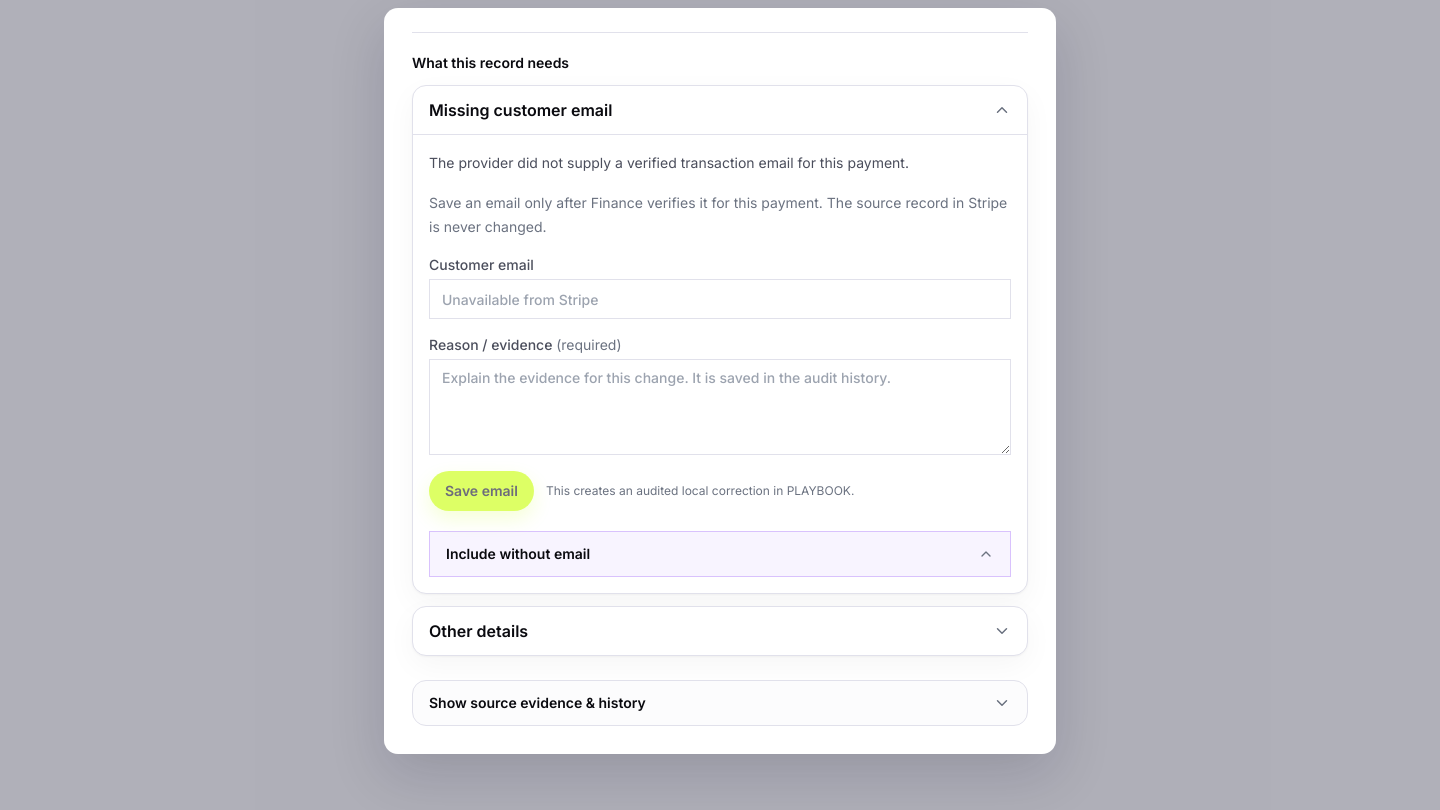
B2C payment review drawer › keeps an unmapped provider payment reviewable without offering a reusable mapping
The width and height of the screenshot is (1440, 810).
(page scrolled)
Click the heading "Include without email". click: (518, 554)
box: 446,545 -> 994,562
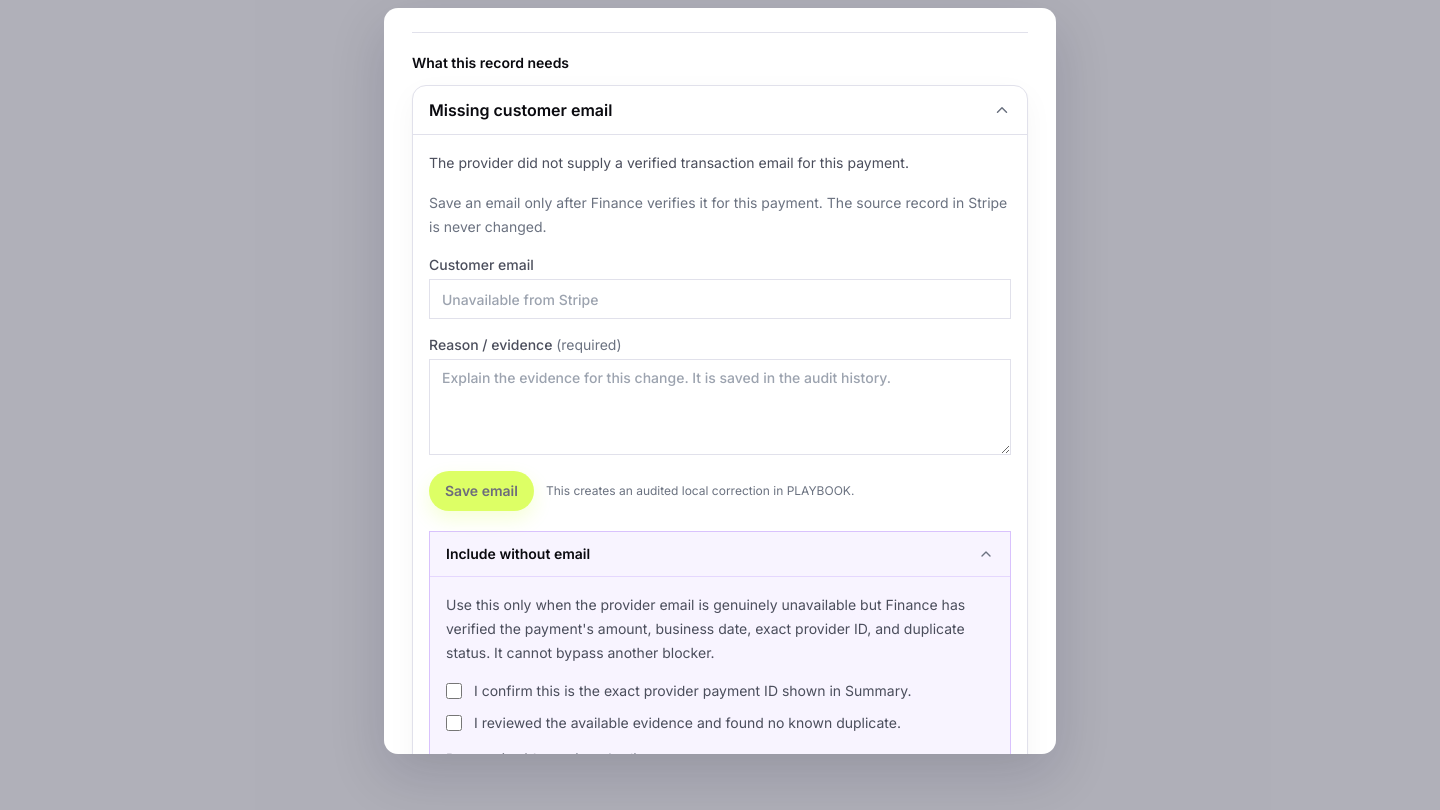
Click the checkbox labelled "exact provider payment ID". click: (454, 691)
box: 446,683 -> 462,699
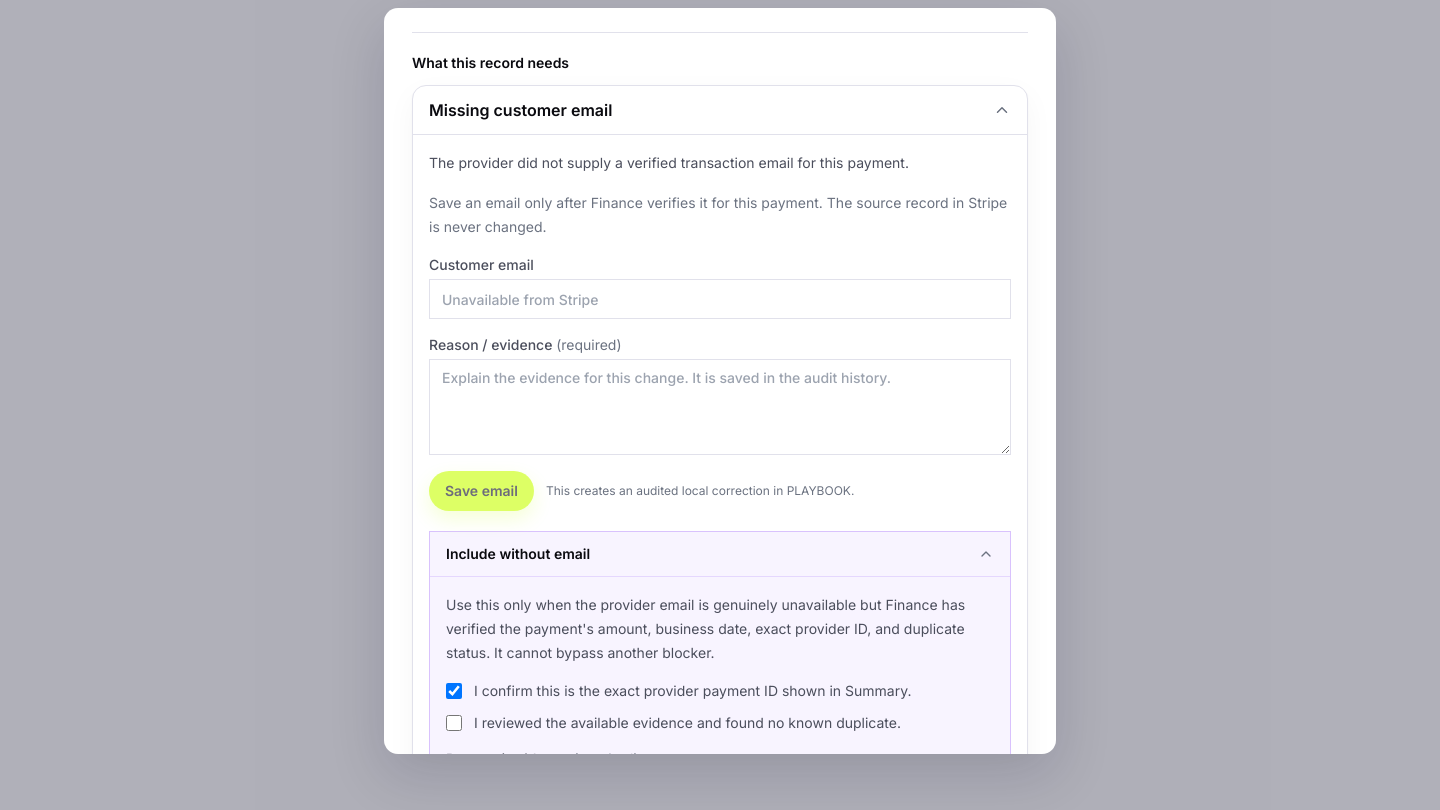
Click the checkbox labelled "found no known duplicate". click: (454, 723)
box: 446,715 -> 462,731
(page scrolled)
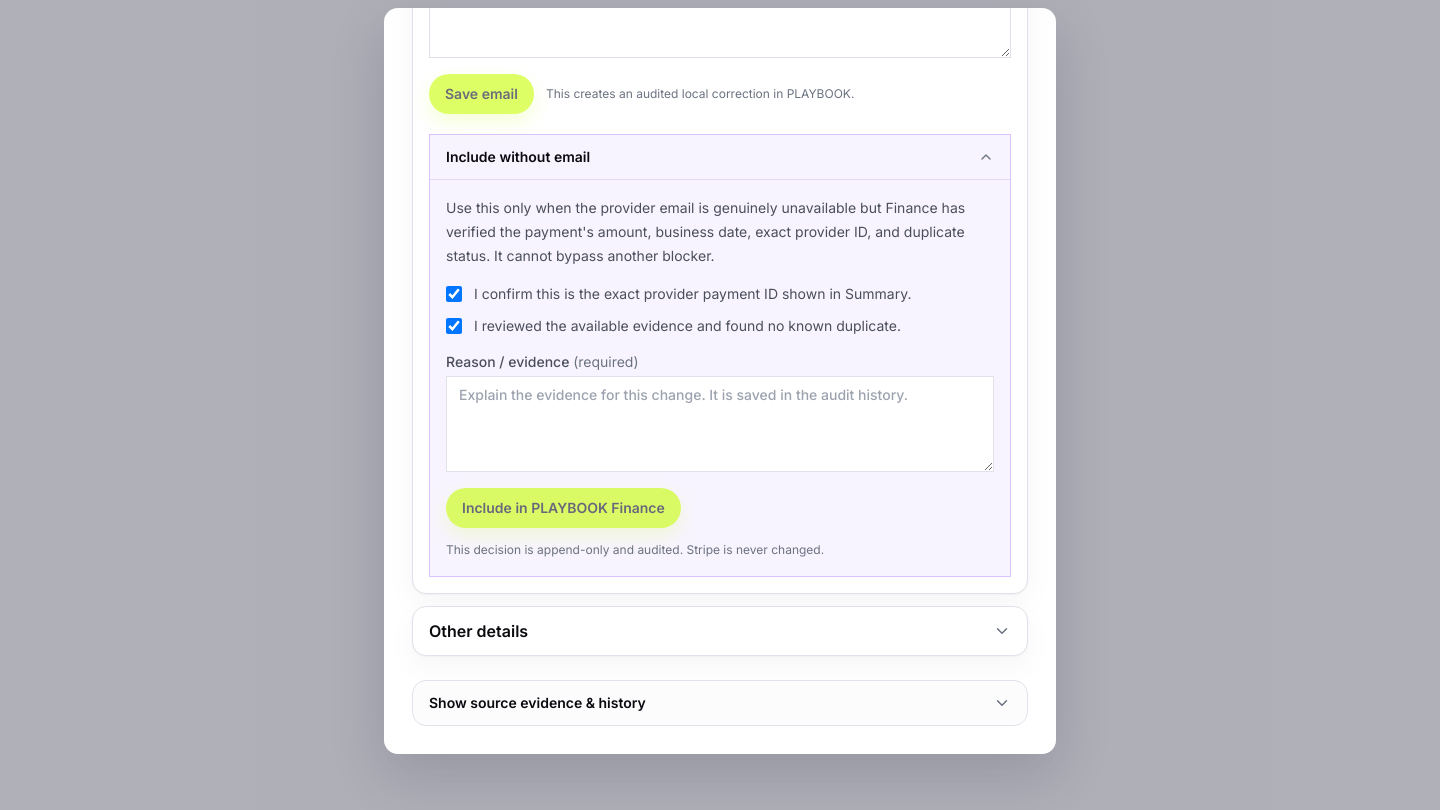
Replace the text in the text box labelled "Reason / evidence (required)" below "Reason / evidence" with "Finance verified the missing email cannot be recovered.". click: (720, 424)
box: 446,376 -> 994,472
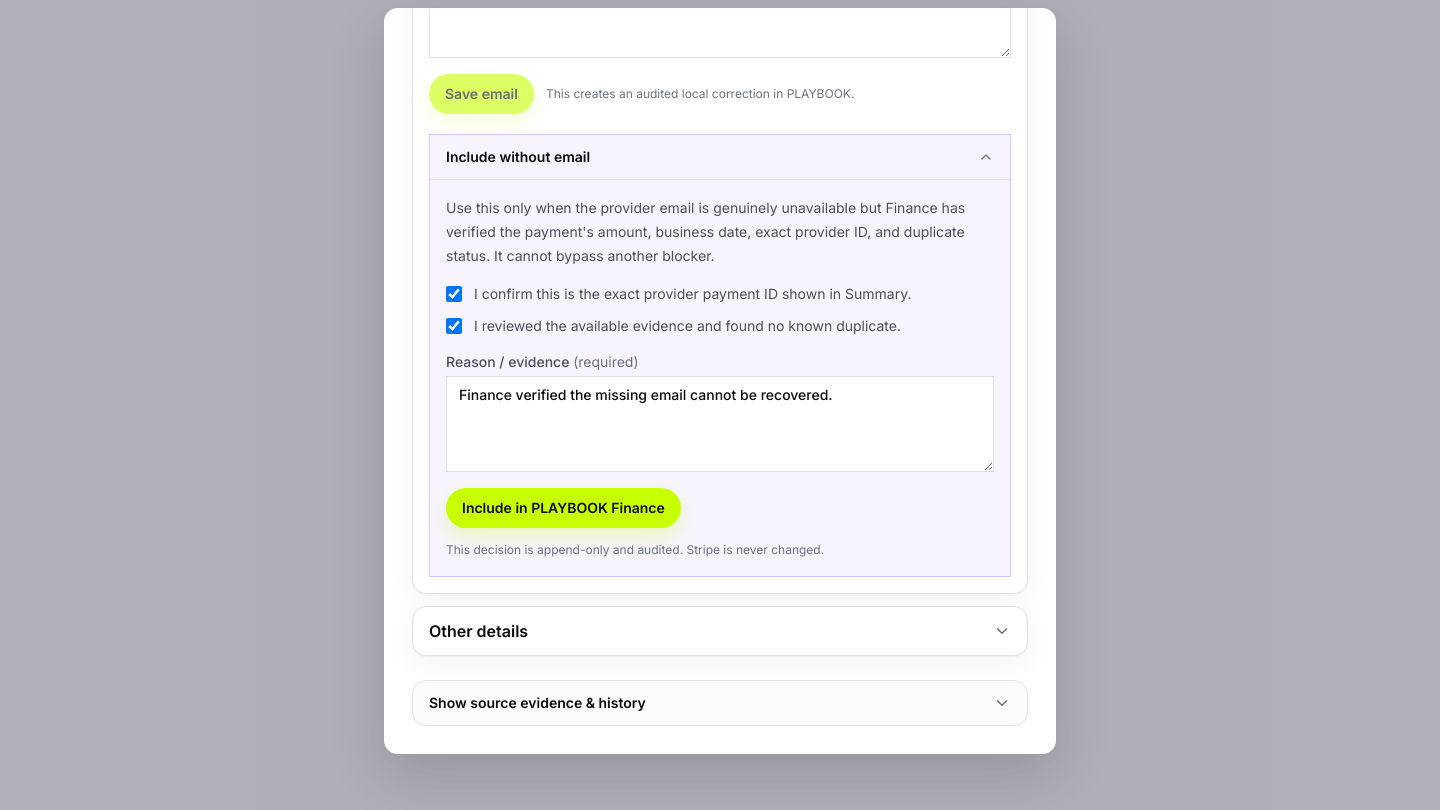
Expected: the button "Include in PLAYBOOK Finance" is enabled, 446,488 -> 681,528
